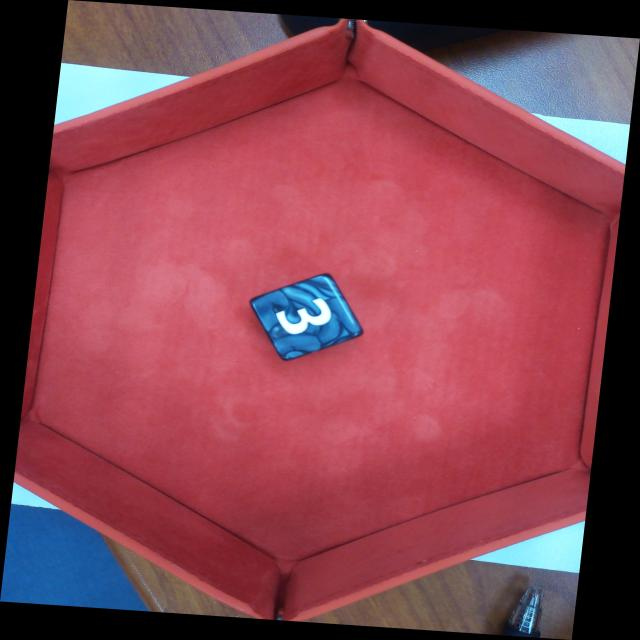dice: (254, 275, 362, 361)
